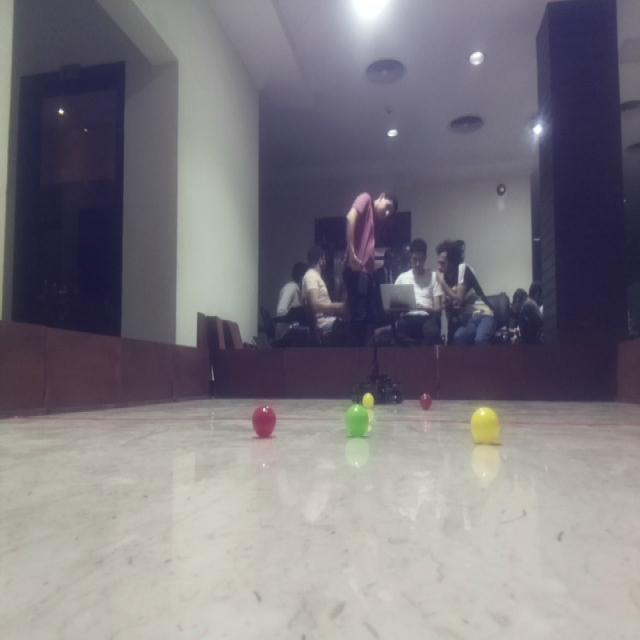ball: (466, 404, 503, 446), (343, 400, 372, 440), (250, 400, 278, 440), (416, 388, 435, 415), (359, 388, 378, 411)
